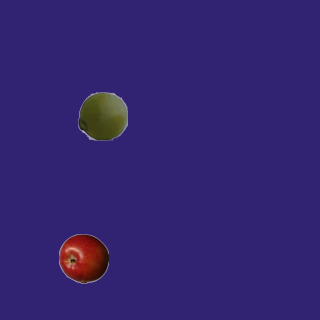Apple Braeburn: (58, 233, 108, 283)
Grape White 4: (77, 90, 127, 140)
